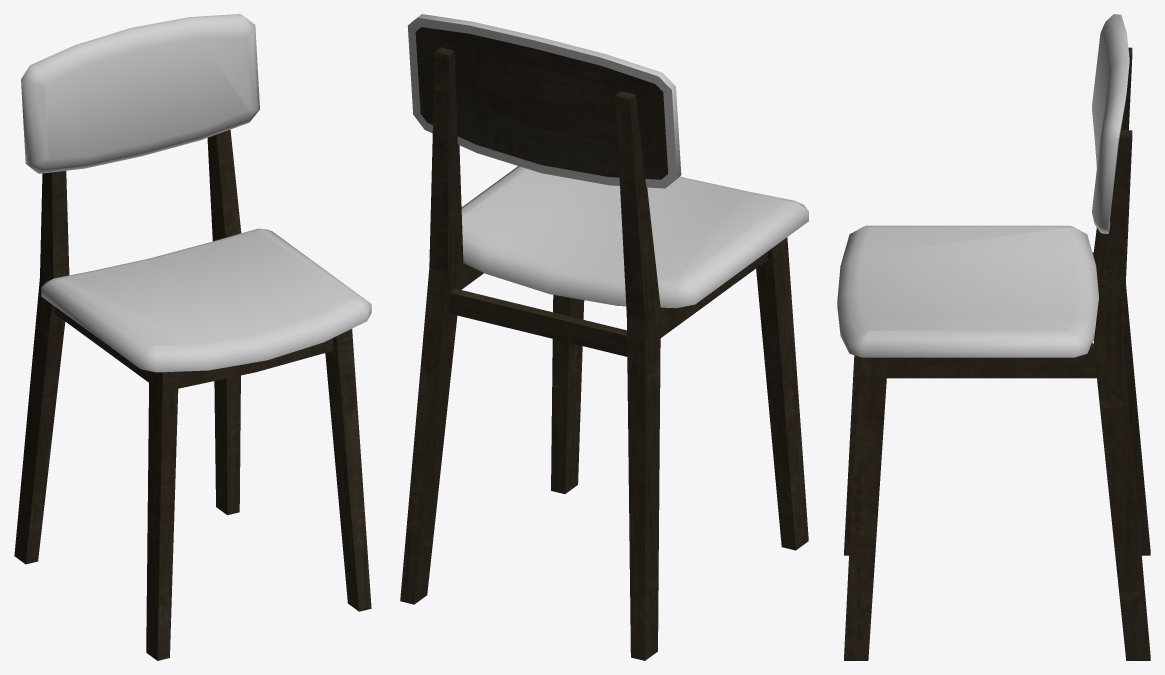
File: chair_mp_4_3.fbx
The picture shows the model from 3 angles, left to right: view 1: azimuth 30°, elevation 25°; view 2: azimuth 150°, elevation 25°; view 3: azimuth 270°, elevation 25°; orthographic projection. The views are drawn at different scales.
Visible parts, largest first — view 1: chair_mp_4_3; view 2: chair_mp_4_3; view 3: chair_mp_4_3.
Boxes of the visible parts, bbox=[...] form: chair_mp_4_3: bbox=[14, 14, 371, 660]; chair_mp_4_3: bbox=[400, 14, 808, 660]; chair_mp_4_3: bbox=[837, 14, 1150, 660].
Bounding box in the file's own units: 0.4763 × 0.5226 × 1.01.
